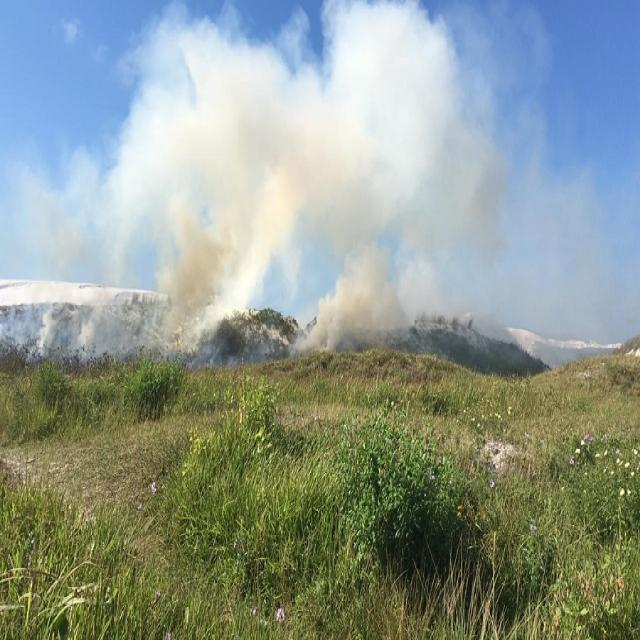smoke: (180, 74, 470, 232), (151, 243, 230, 339), (318, 276, 396, 341)
